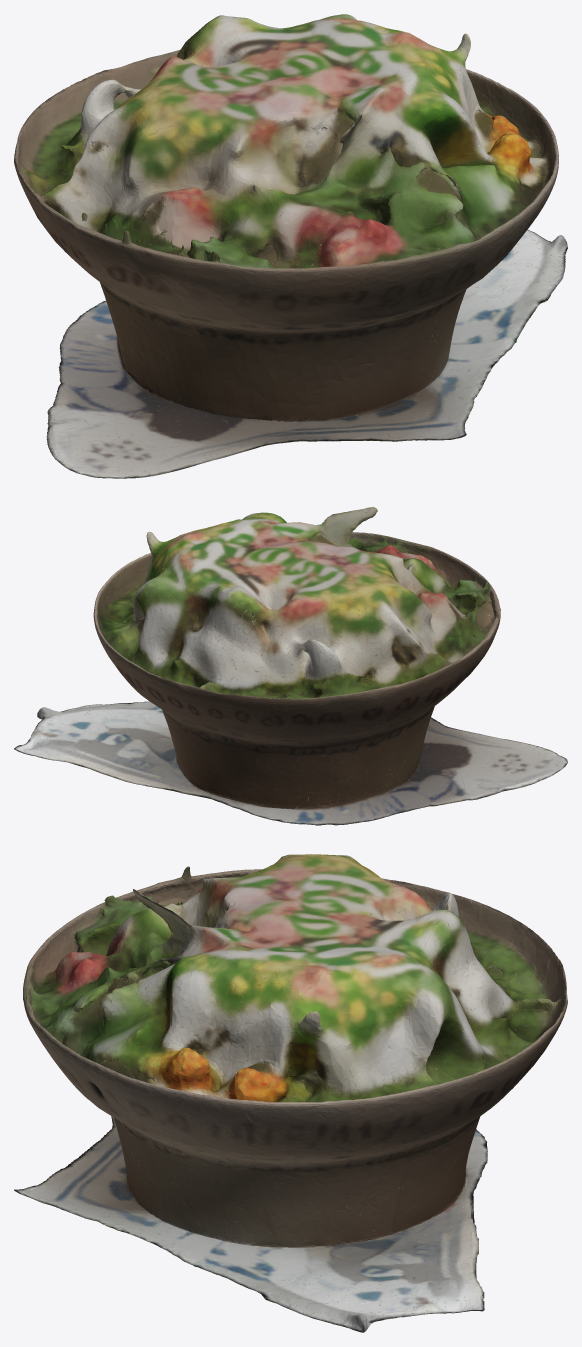
The model's file is thai.glb.
3 views of the same model, one above another, from view 1: azimuth 30°, elevation 25°; view 2: azimuth 150°, elevation 25°; view 3: azimuth 270°, elevation 25° (orthographic). The views are drawn at different scales.
Visible parts, largest first — view 1: world; view 2: world; view 3: world.
Part boxes in pixels (left/top/right/bottom): world: left=14, top=14, right=567, bottom=478; world: left=14, top=507, right=567, bottom=825; world: left=14, top=854, right=567, bottom=1332.
Size of the model in its own units: 0.9942 by 0.4457 by 0.7923.
1 material, 1 textured.
